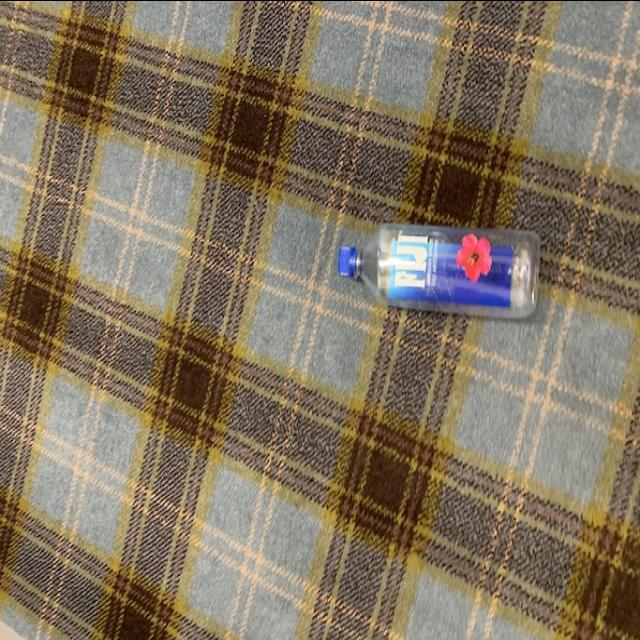litter: (334, 218, 546, 322)
